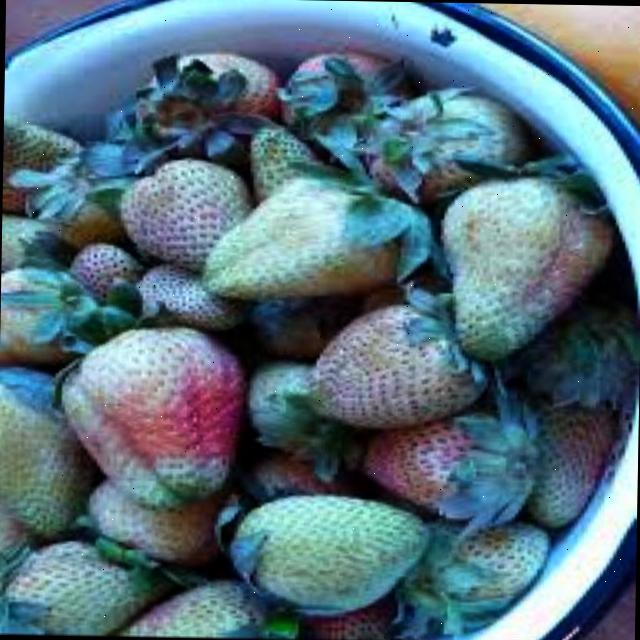strawberry: (58, 326, 248, 516), (438, 172, 618, 364), (204, 179, 404, 302), (234, 496, 426, 616), (308, 303, 484, 432), (366, 95, 534, 202), (0, 369, 96, 541), (2, 540, 170, 638), (119, 160, 254, 272)
